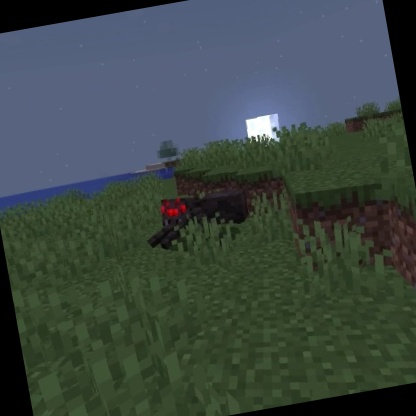spider: (137, 180, 255, 255)
